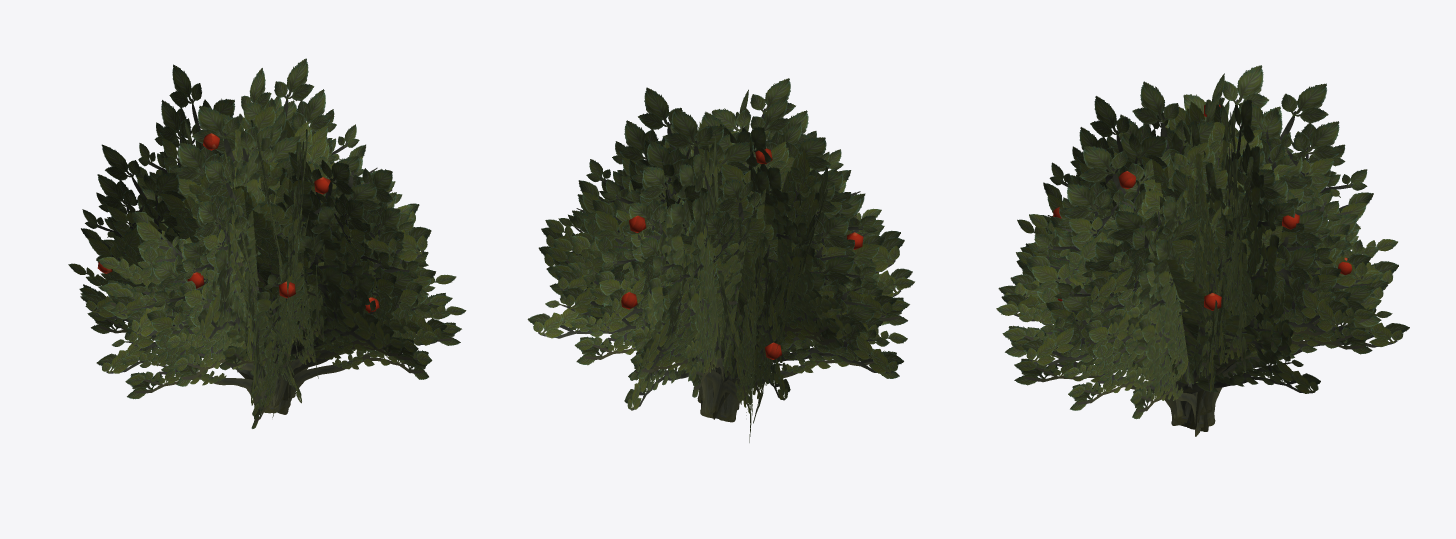
Rendered from shared_bush_berry_00.fbx.
3 renders of one model, left to right at view 1: azimuth 30°, elevation 25°; view 2: azimuth 150°, elevation 25°; view 3: azimuth 270°, elevation 25°, orthographic. The views are drawn at different scales.
Visible parts, largest first — view 1: shared_bush_berry_00; view 2: shared_bush_berry_00; view 3: shared_bush_berry_00.
Boxes of the visible parts, box(x1,y1,x2,y2) form: shared_bush_berry_00: box(68, 58, 466, 428); shared_bush_berry_00: box(527, 78, 914, 442); shared_bush_berry_00: box(996, 65, 1409, 436).
Bounding box in the file's own units: 2.26 × 2.17 × 2.26.
